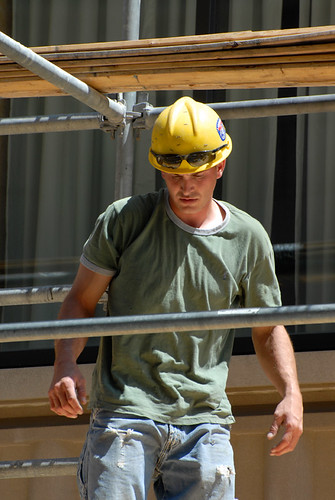person hardhat: (43, 105, 304, 500)
